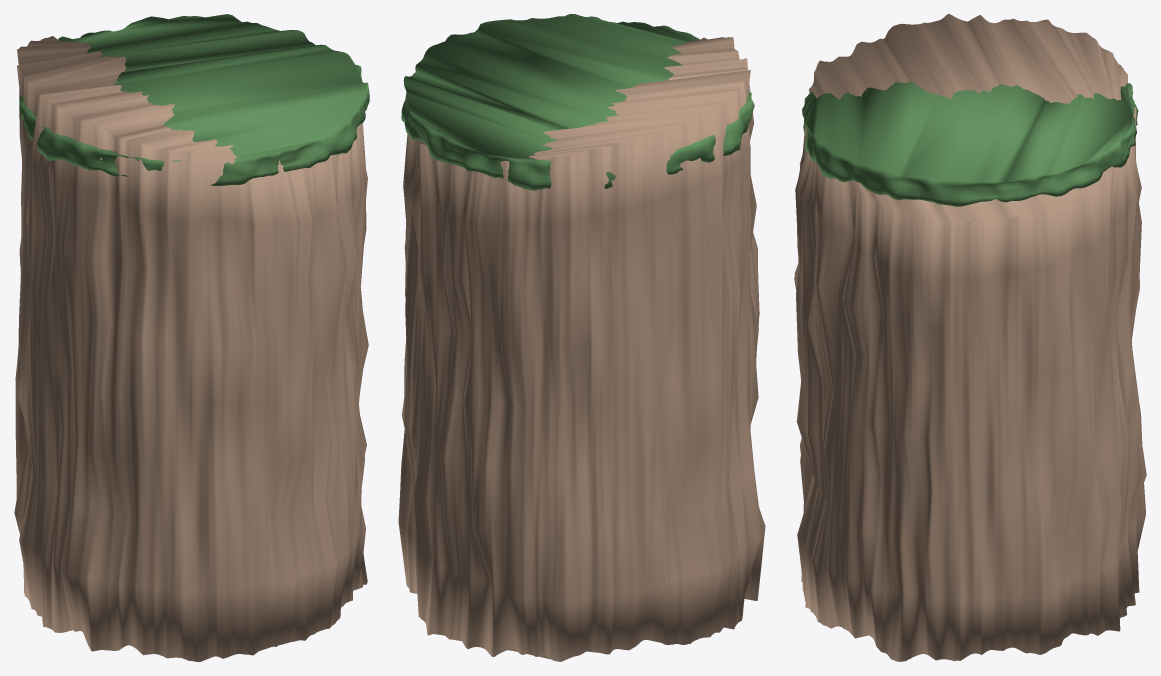
Rendered from sigiriya.glb.
3 renders of one model, left to right at view 1: azimuth 30°, elevation 25°; view 2: azimuth 150°, elevation 25°; view 3: azimuth 270°, elevation 25°, orthographic. The views are drawn at different scales.
Parts seen in each view (by area): view 1: Sigiriya, SummitGreen; view 2: Sigiriya, SummitGreen; view 3: Sigiriya, SummitGreen.
Part boxes in pixels (<box>): Sigiriya: <box>14,36,368,661</box>; SummitGreen: <box>19,14,369,185</box>; Sigiriya: <box>398,37,765,661</box>; SummitGreen: <box>401,14,754,190</box>; Sigiriya: <box>794,14,1146,661</box>; SummitGreen: <box>802,81,1138,206</box>.
Bounding box in the file's own units: 3.13 × 5.09 × 3.16.
